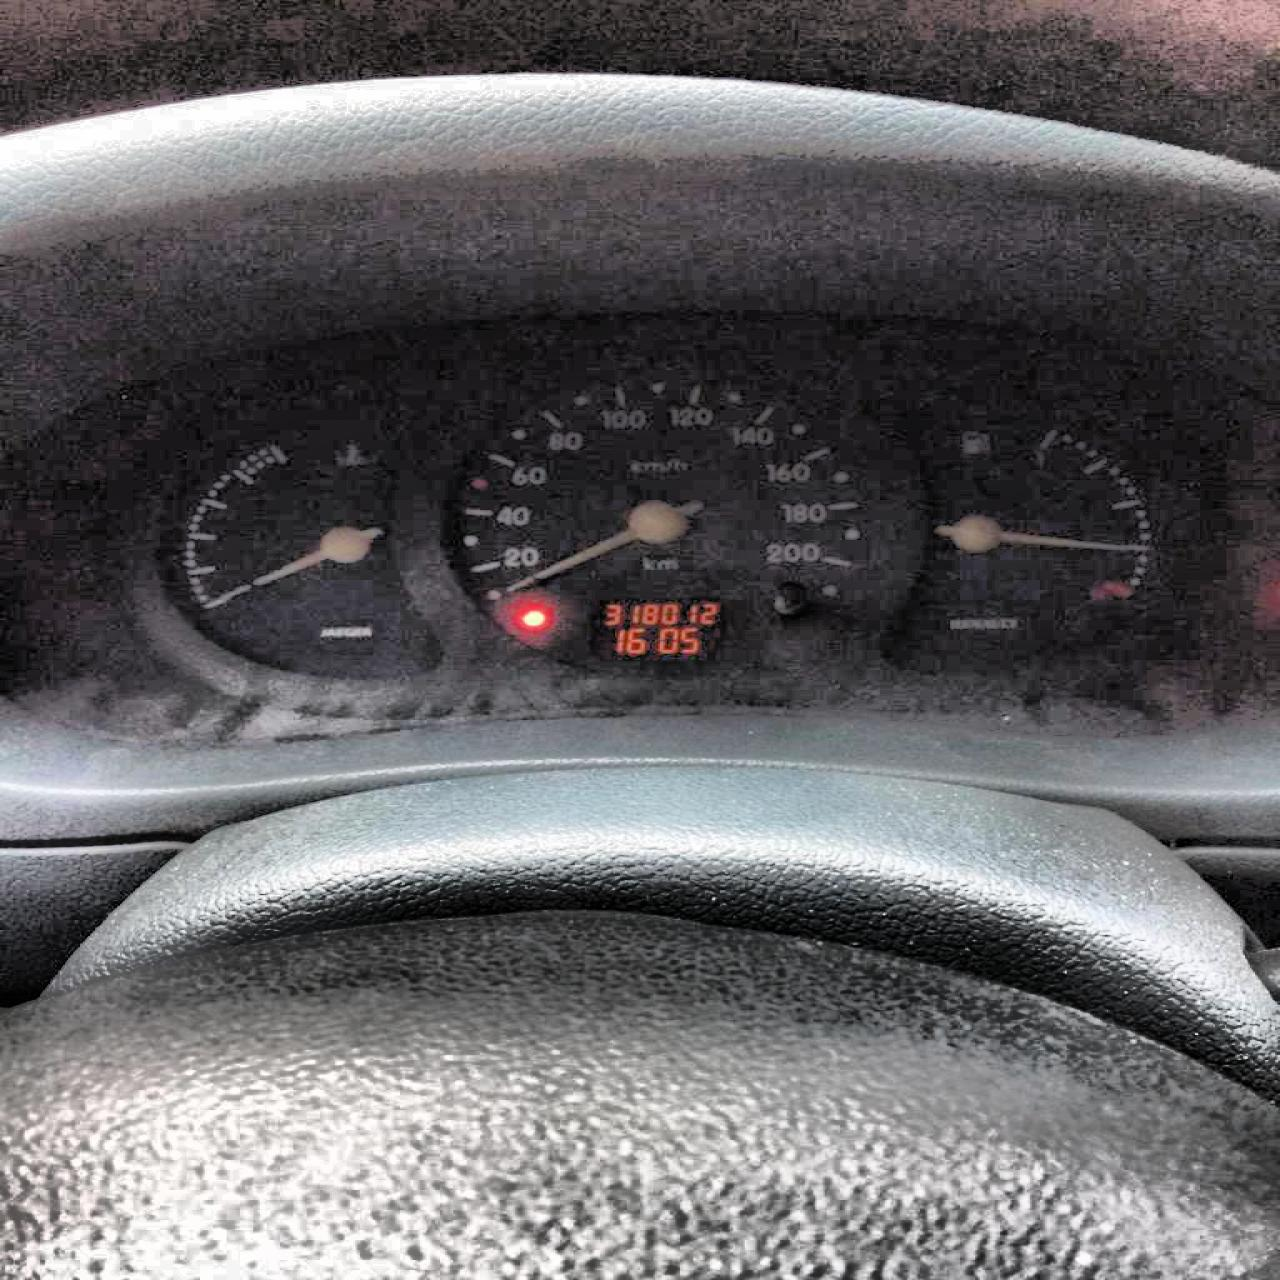0: (656, 626, 676, 653), (660, 602, 676, 622)
1: (614, 626, 624, 653), (629, 602, 639, 624), (688, 602, 695, 622)
2: (699, 602, 716, 624)
3: (605, 602, 620, 624)
5: (680, 626, 699, 653)
6: (625, 626, 645, 653)
8: (641, 602, 656, 622)
odometer: (588, 595, 743, 660)
